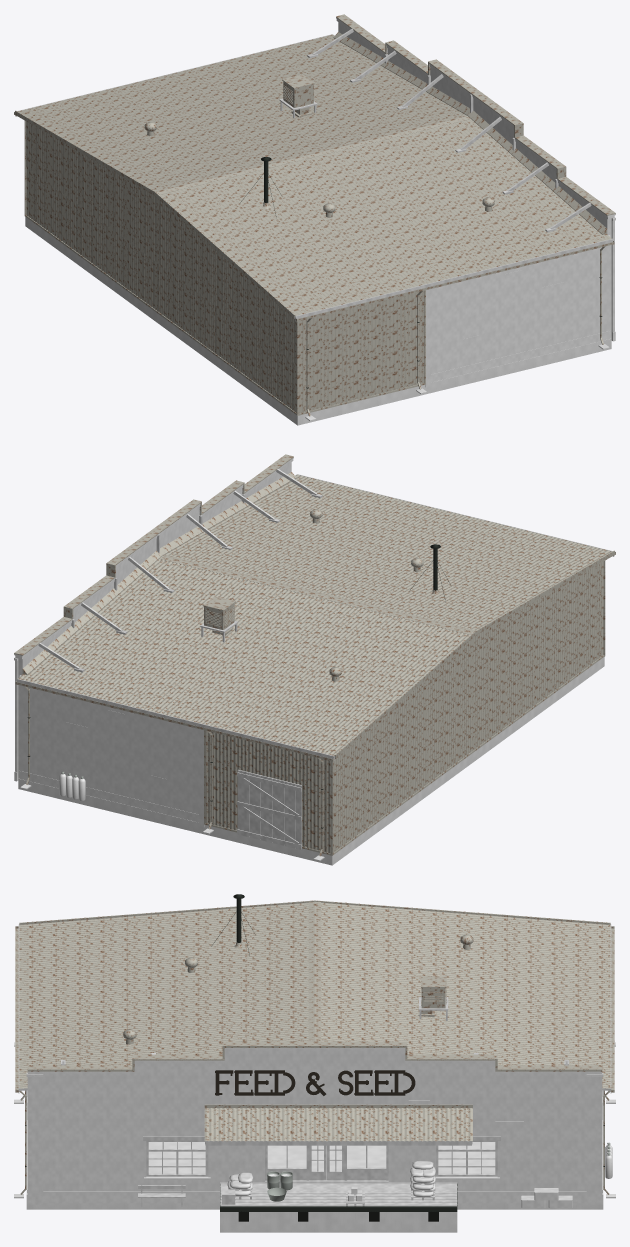
Rendered from SM_Town_Feed_Shell.glb.
3 renders of one model, top to bottom at view 1: azimuth 30°, elevation 25°; view 2: azimuth 150°, elevation 25°; view 3: azimuth 270°, elevation 25°, orthographic. The views are drawn at different scales.
Parts seen in each view (by area): view 1: SM_Town_Feed_Shell; view 2: SM_Town_Feed_Shell; view 3: SM_Town_Feed_Shell.
Part boxes in pixels (x1=…): SM_Town_Feed_Shell: x1=14, y1=14, x2=615, y2=425; SM_Town_Feed_Shell: x1=14, y1=454, x2=615, y2=865; SM_Town_Feed_Shell: x1=14, y1=894, x2=615, y2=1232.
Size of the model in its own units: 19.1 by 8.77 by 25.36.
22 materials, 18 textured.
